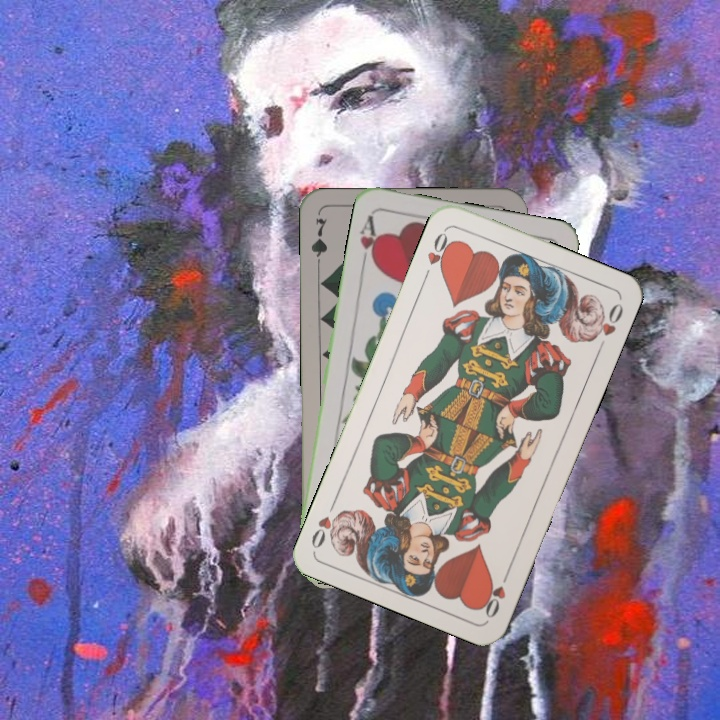G7: (307, 214, 329, 272)
HA: (355, 211, 383, 269)
HO: (419, 226, 456, 282), (477, 565, 513, 621)
